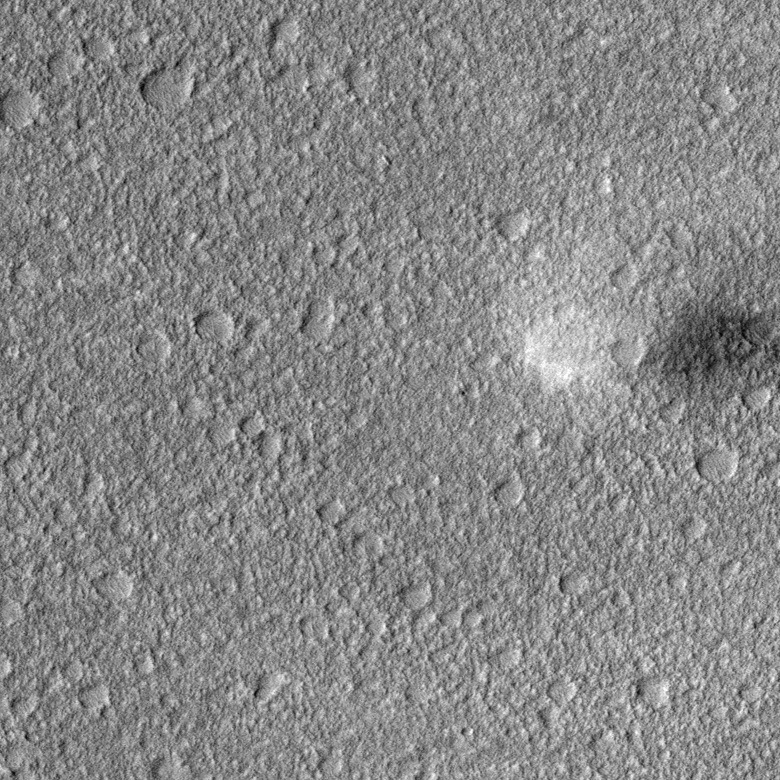dust_devil: (521, 295, 780, 395)
